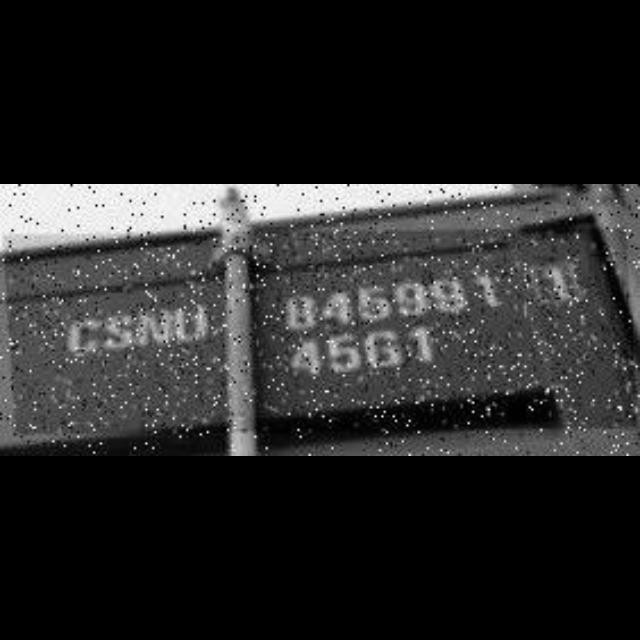1: (410, 323, 440, 373), (545, 258, 575, 306), (476, 269, 504, 315)
4: (288, 333, 324, 382), (322, 287, 353, 329)
5: (327, 330, 363, 378), (358, 280, 392, 324)
6: (364, 327, 404, 375)
8: (433, 274, 469, 318), (282, 292, 318, 332)
9: (395, 276, 429, 322)
c: (64, 308, 100, 362)
n: (136, 308, 172, 352)
s: (106, 312, 134, 354)
u: (175, 300, 211, 348)
